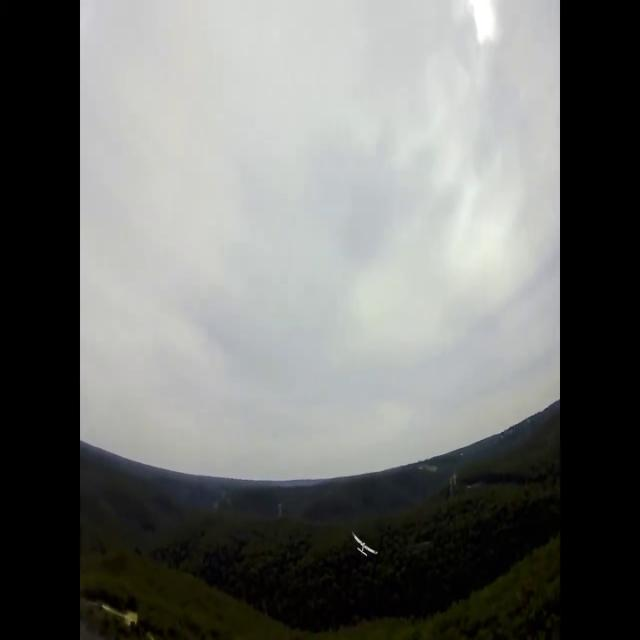iha: (352, 532, 379, 556)
